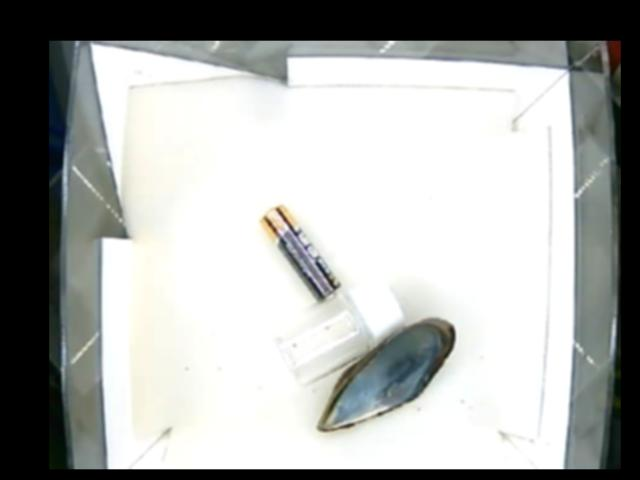Battery: (258, 203, 334, 299)
Bottle: (265, 280, 402, 384)
Shell: (314, 310, 456, 432)
